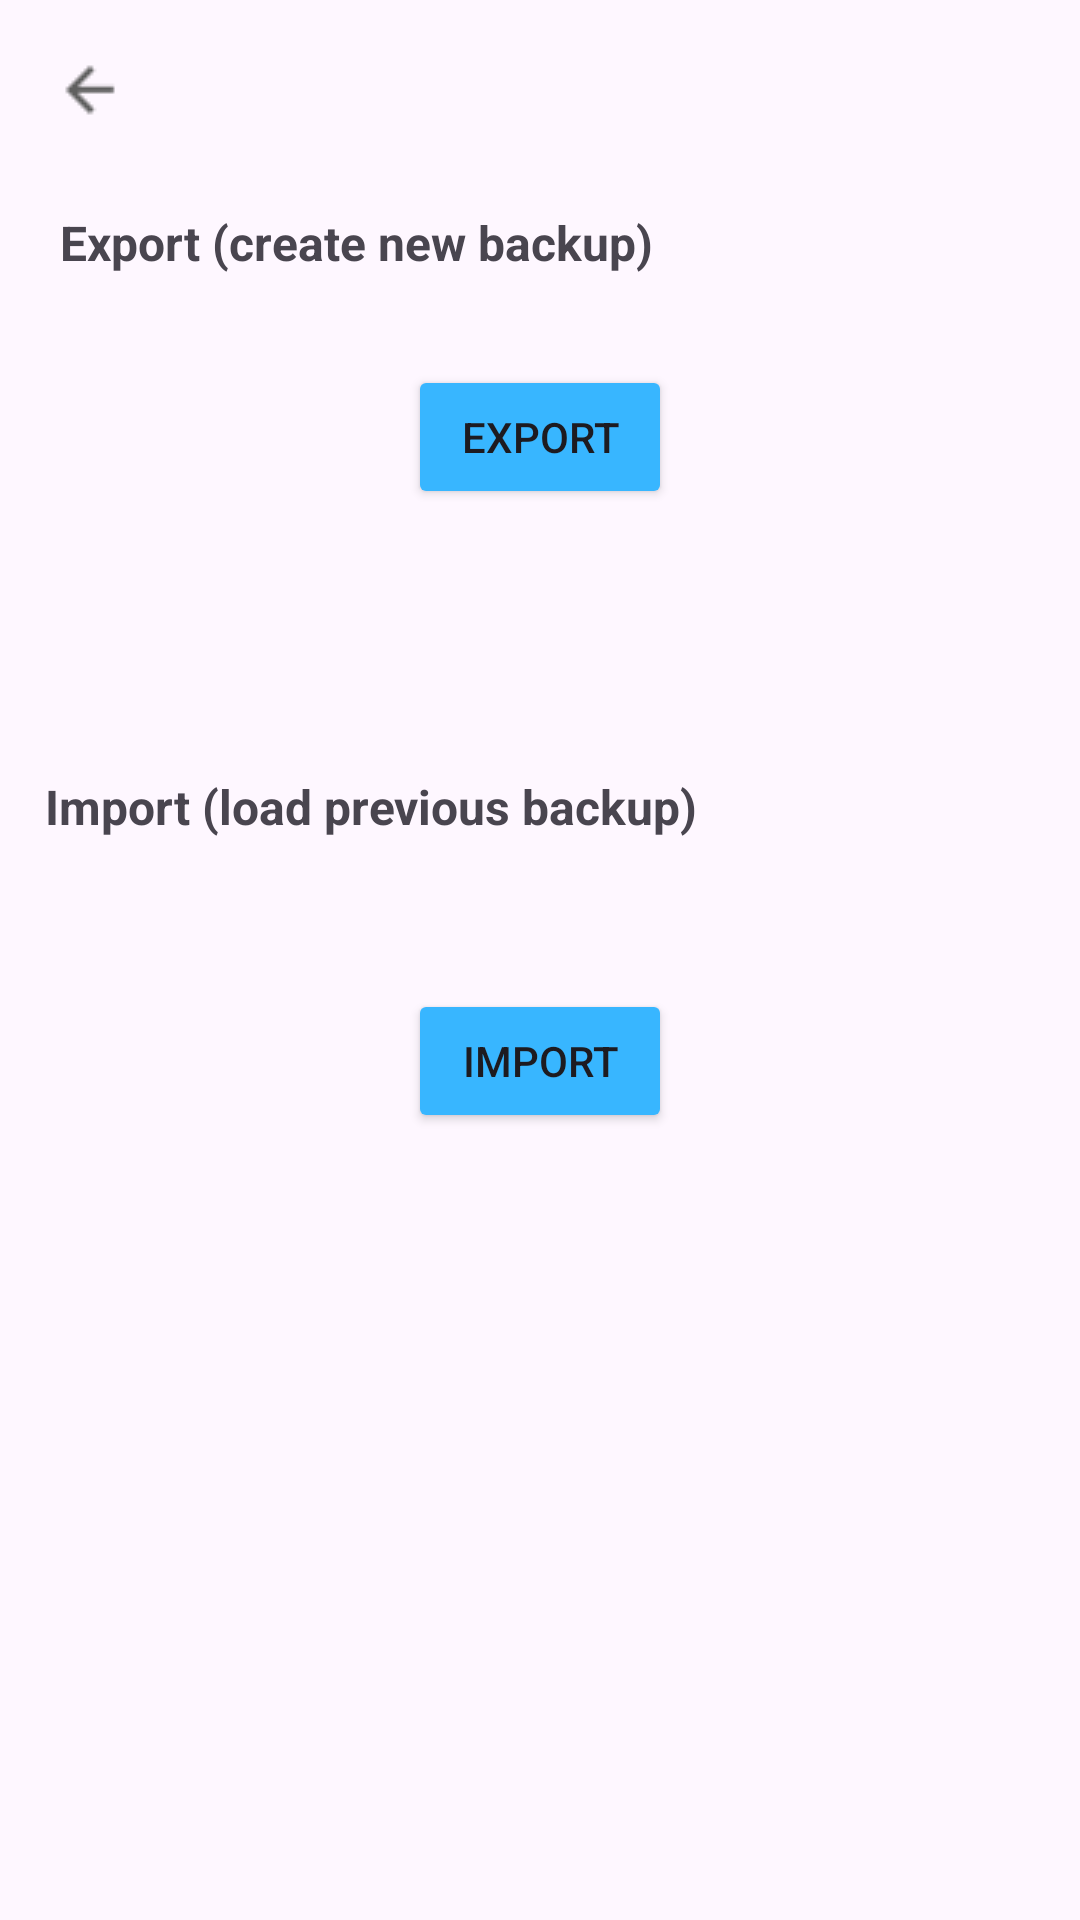

Screen size 1080px x 1920px. Icon name, then its box in pixels as (x1, y1, x2, y2):
arrow left: (65, 65, 115, 115)
